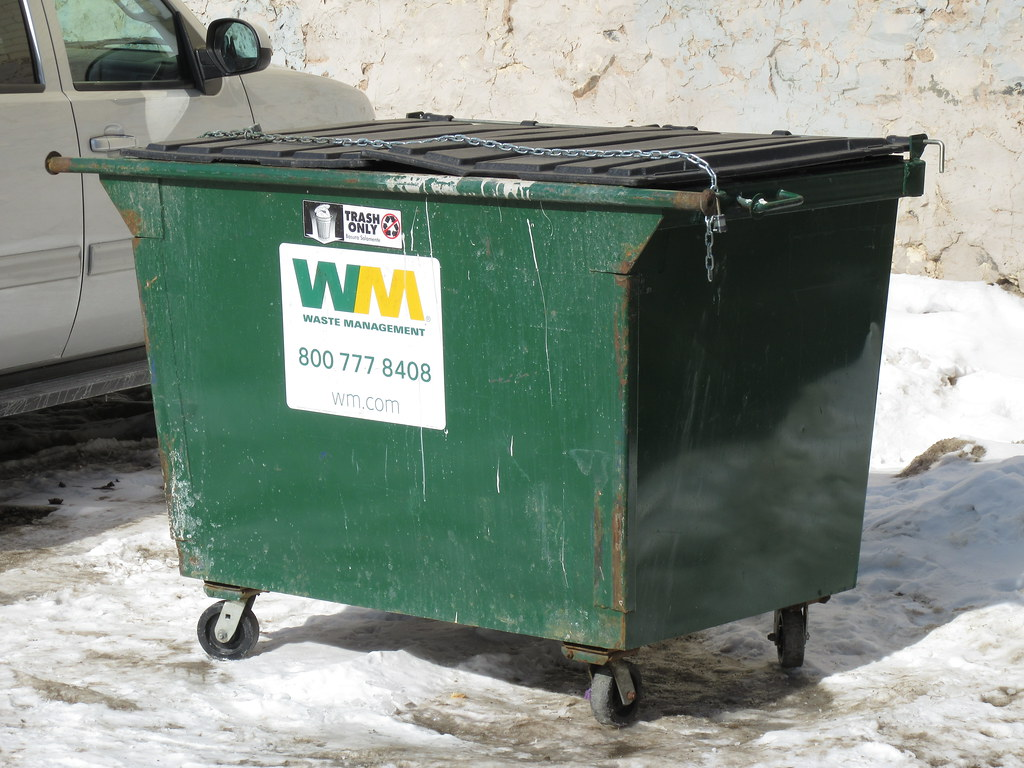Dumpster: (83, 104, 959, 735)
